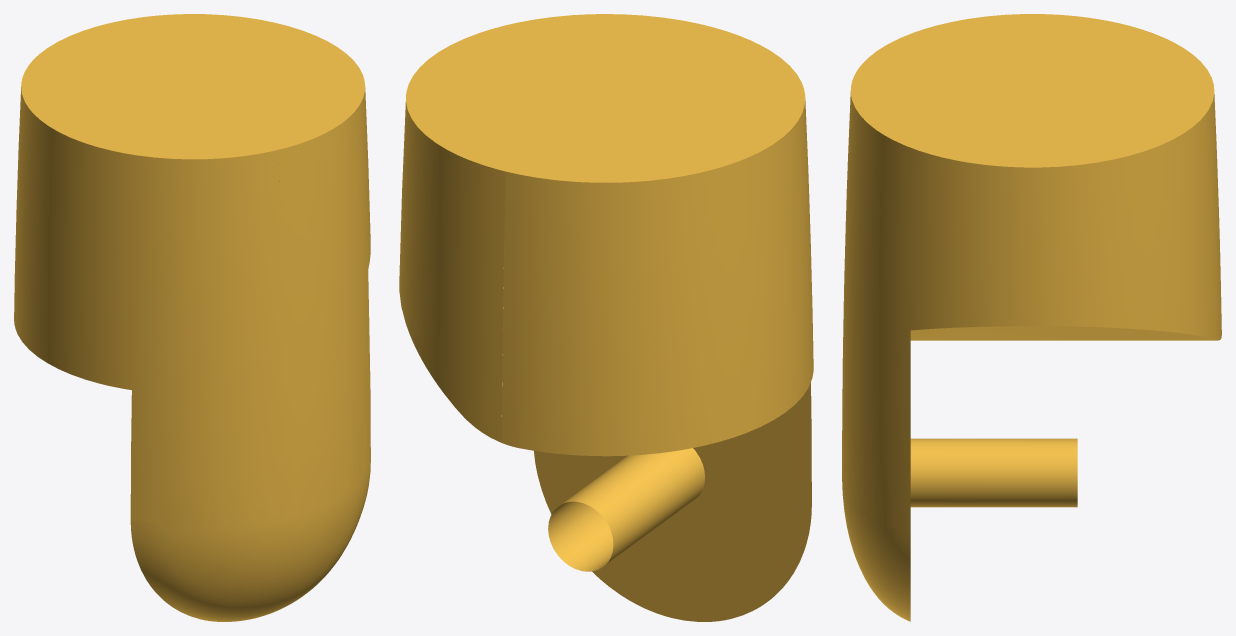
3 renders of one model, left to right at view 1: azimuth 30°, elevation 25°; view 2: azimuth 150°, elevation 25°; view 3: azimuth 270°, elevation 25°, orthographic. The views are drawn at different scales.
Visible parts, largest first — view 1: arml2; view 2: arml2; view 3: arml2.
Boxes of the visible parts, <box> form: arml2: <box>14,14,370,621</box>; arml2: <box>399,14,813,621</box>; arml2: <box>842,14,1221,621</box>.
Size of the model in its own units: 0.1099 by 0.1665 by 0.1108.
